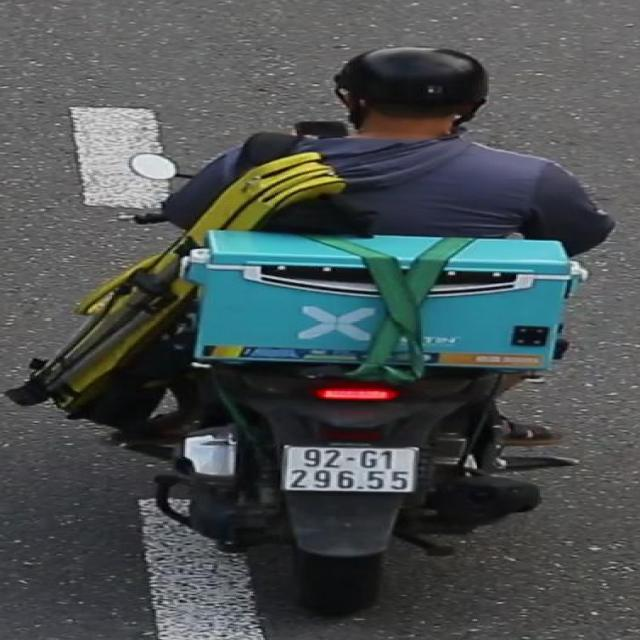LP: (277, 442, 426, 499)
helmet: (325, 42, 498, 147)
